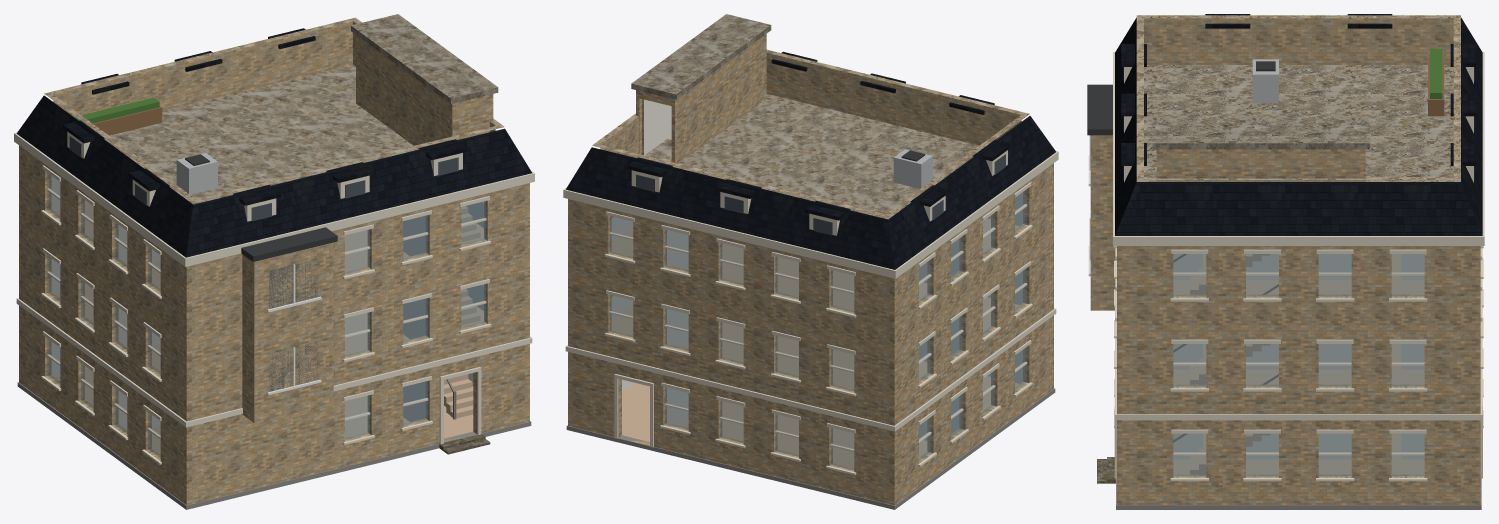
File: ns-mansard-flats.towns-v1.lod0.glb
The picture shows the model from 3 angles, left to right: view 1: azimuth 30°, elevation 25°; view 2: azimuth 150°, elevation 25°; view 3: azimuth 270°, elevation 25°; orthographic projection. The views are drawn at different scales.
Parts seen in each view (by area): view 1: ns-mansard-flats; view 2: ns-mansard-flats; view 3: ns-mansard-flats.
Part boxes in pixels (x1,y1,x2,y2): ns-mansard-flats: [14, 14, 534, 509]; ns-mansard-flats: [563, 14, 1058, 509]; ns-mansard-flats: [1087, 14, 1484, 509].
Size of the model in its own units: 13.24 by 11.95 by 12.02.
Materials: 7 (3 with a texture image).
